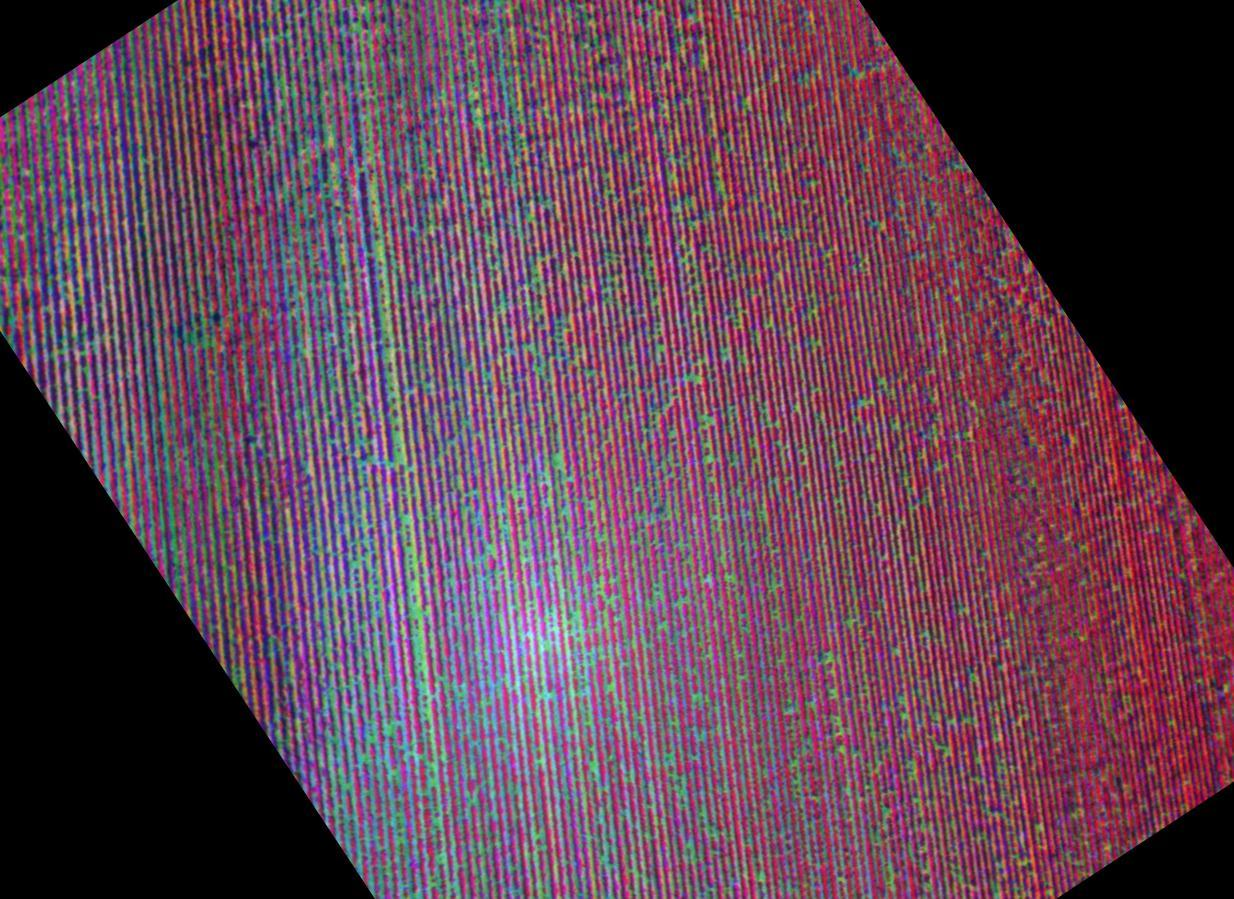dc: (0, 150, 73, 285), (452, 53, 516, 188), (540, 600, 619, 702), (158, 296, 250, 376)
